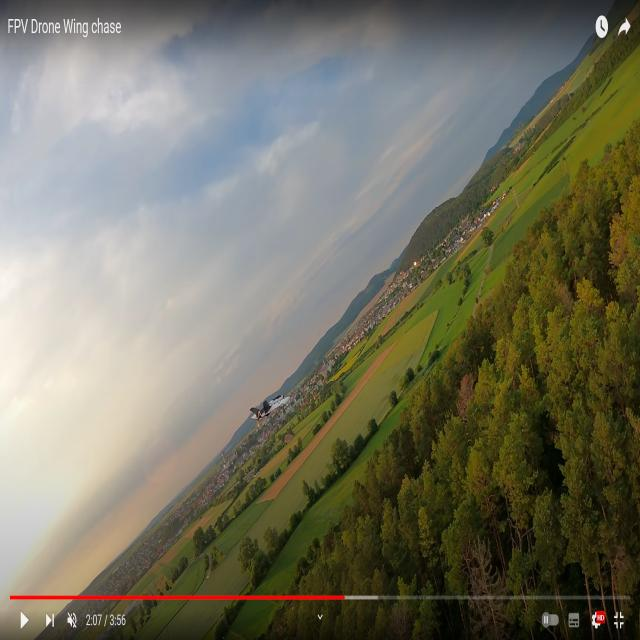iha: (248, 388, 292, 428)
